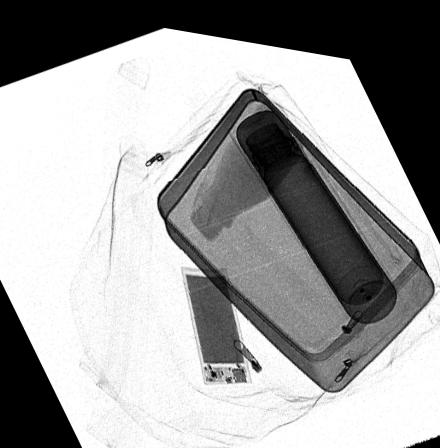Powerbank: (180, 260, 254, 378)
